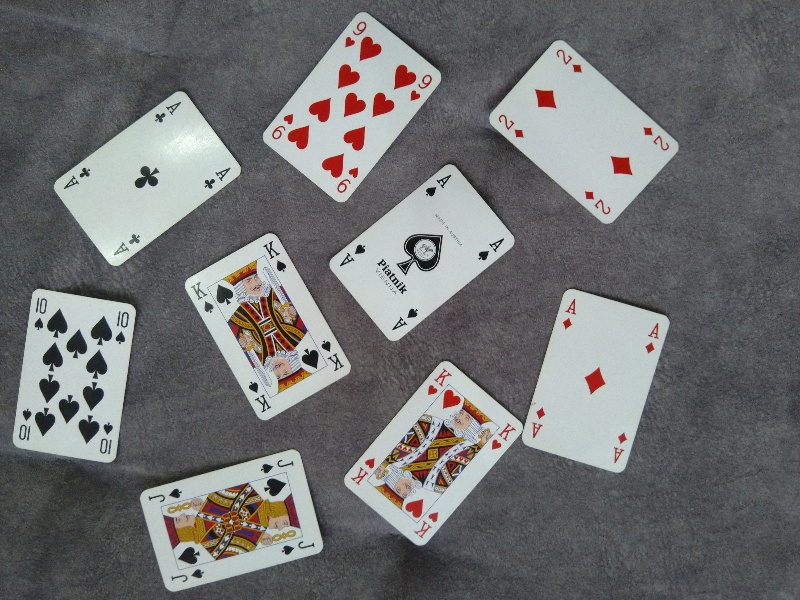2d: (554, 46, 587, 76), (639, 124, 672, 153), (496, 113, 528, 142), (581, 187, 612, 216)
9h: (268, 112, 295, 142), (335, 166, 362, 195), (343, 19, 369, 49), (408, 73, 434, 103)
Ac: (60, 165, 97, 192), (109, 232, 144, 258), (153, 99, 183, 127), (202, 165, 234, 190)
Ad: (526, 402, 548, 444), (640, 316, 661, 355), (607, 431, 630, 465), (557, 297, 580, 330)
As: (476, 235, 507, 264), (388, 307, 422, 333), (422, 172, 453, 198), (337, 243, 368, 268)
Js: (146, 486, 186, 506), (280, 537, 318, 558), (258, 456, 297, 475), (167, 568, 207, 584)
Kh: (489, 420, 517, 453), (423, 366, 452, 397), (412, 511, 441, 542), (349, 456, 376, 488)
Ks: (260, 238, 288, 276), (246, 379, 273, 415), (189, 280, 215, 316), (320, 337, 345, 371)
Ts: (96, 420, 115, 458), (16, 406, 36, 442), (31, 295, 48, 332), (114, 310, 130, 347)
